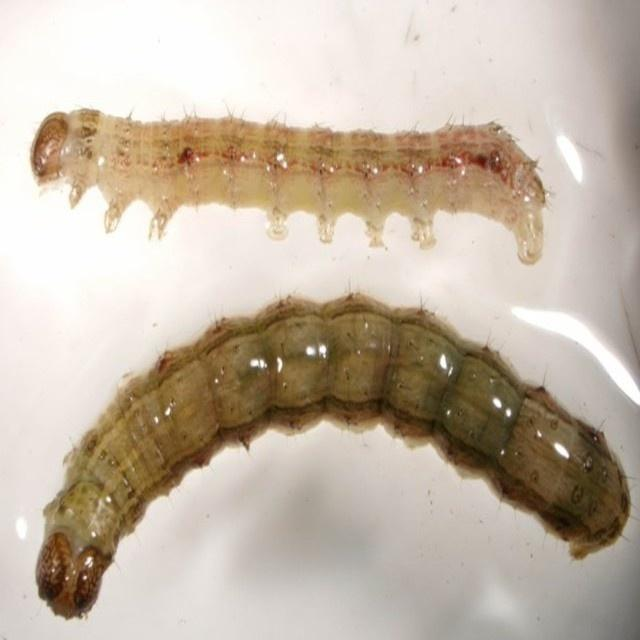worm: (35, 290, 633, 621), (30, 105, 551, 265)
